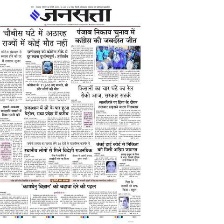news_paper: (0, 4, 142, 223)
